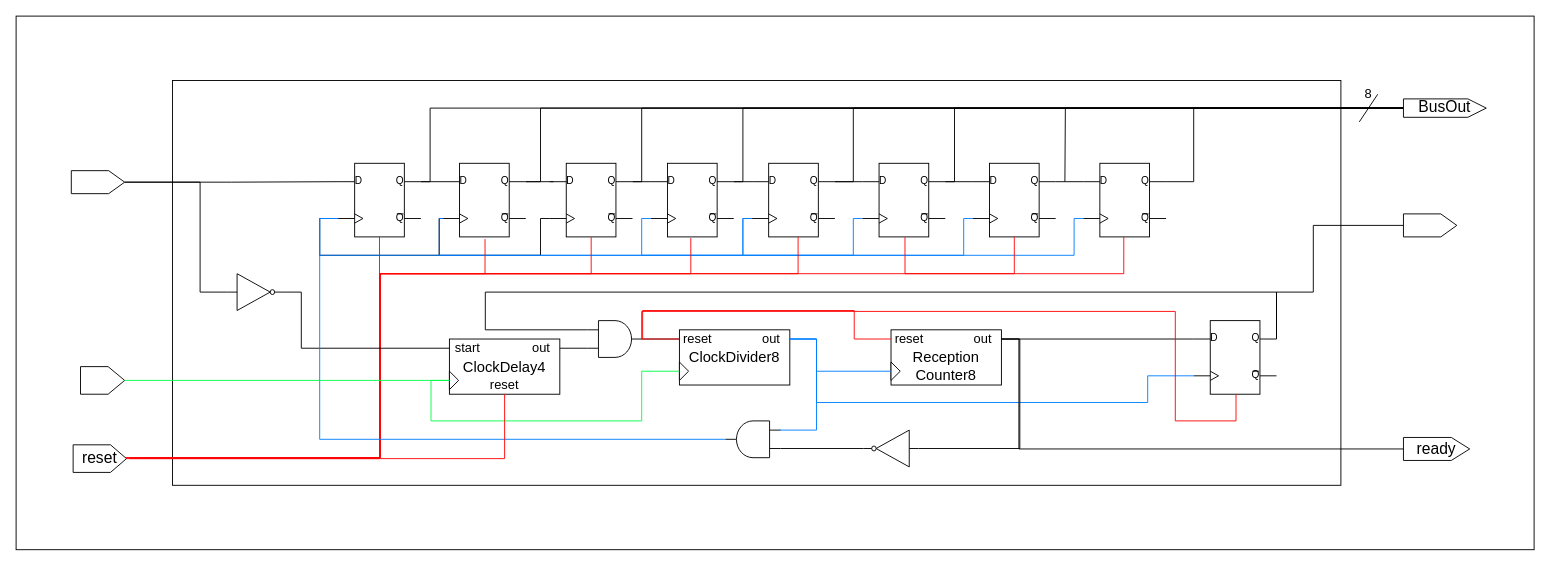
Image size: 1550x566. Some labels were removed from this diagram. The shapes that lost their labels are listed below. From the top down, each one's centre as x and y in pixels, then its label:
the point at 97,182: Rx
the point at 1430,225: rts
the point at 102,380: clk
